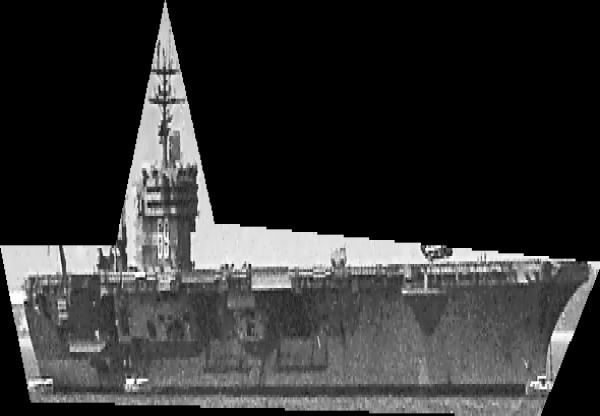Aircraft Carrier: (0, 1, 600, 416)
